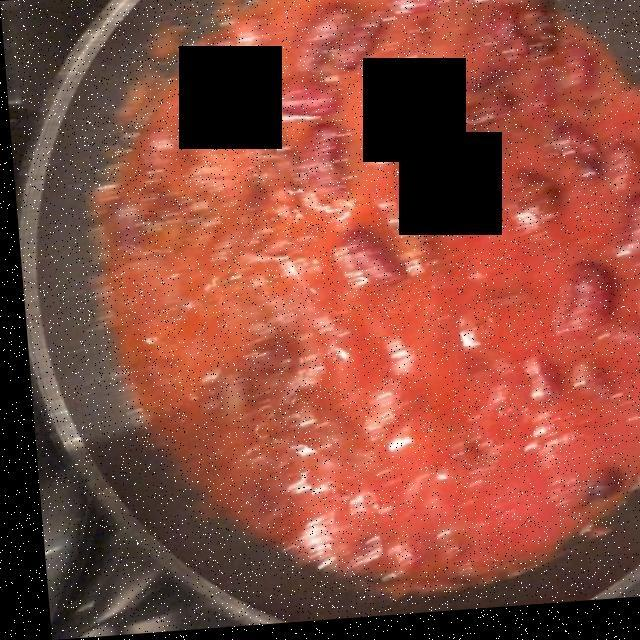beans: (103, 0, 640, 586)
tomato-sauce: (106, 21, 640, 554)
